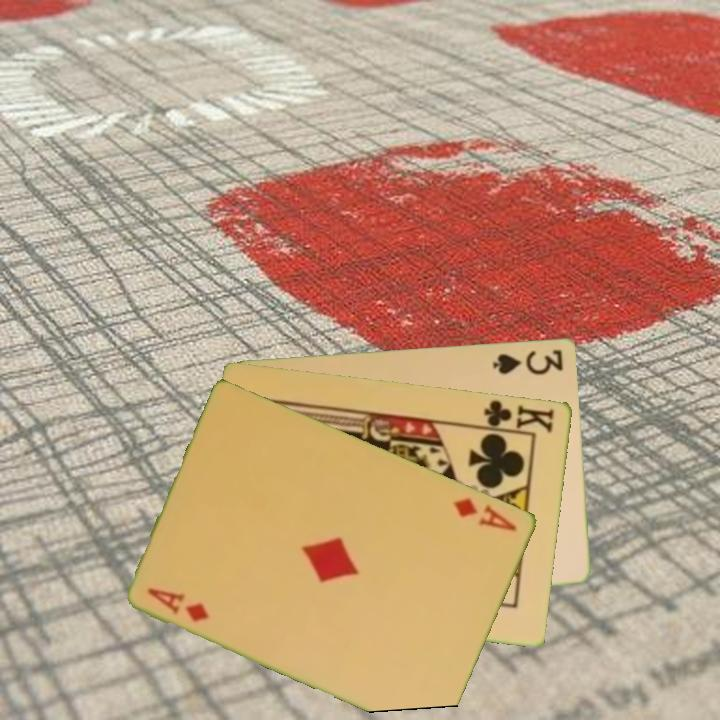3s: (490, 346, 566, 377)
Ad: (144, 583, 213, 625), (450, 494, 521, 534)
Kc: (476, 396, 557, 436)
